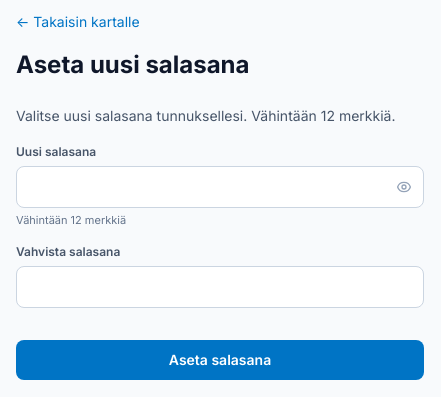
it: ResetPasswordPage › submits the token from the URL and reports the revoked sessions on success
The image size is (441, 397).
Step 1. Type "a-long-enough-password" into the password field labelled "Uusi salasana" → (220, 187), box [16,166,424,208]
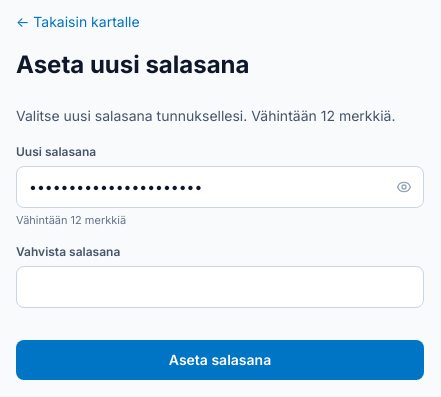
Step 2. Type "a-long-enough-password" into the password field labelled "Vahvista salasana" → (220, 287), box [16,266,424,308]
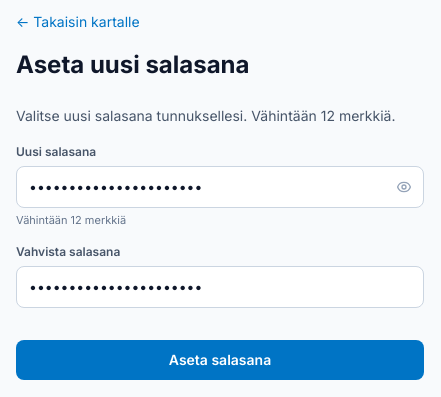
Step 3. Click the button "Aseta salasana" → (220, 360), box [16,340,424,380]
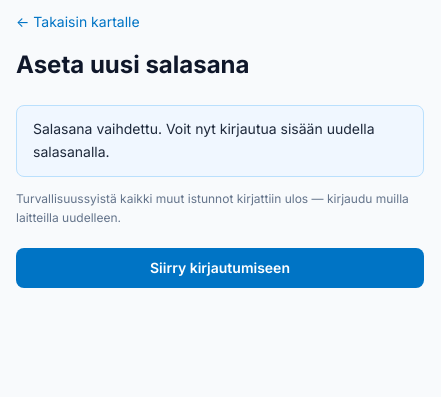
Now the text "Salasana vaihdettu. Voit nyt kirjautua sisään uudella salasanalla." is shown, box [33,118,407,164]
Now the text "Turvallisuussyistä kaikki muut istunnot kirjattiin ulos — kirjaudu muilla laitteilla uudelleen." is shown, box [16,190,409,225]
